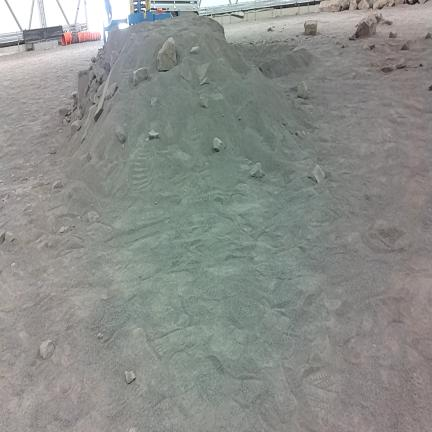Rock: (94, 73, 111, 121), (157, 38, 177, 72), (81, 105, 97, 142), (355, 14, 376, 38), (78, 70, 91, 108), (40, 339, 54, 360), (180, 58, 192, 81), (319, 0, 341, 12), (93, 83, 105, 104), (93, 63, 105, 83), (134, 68, 148, 85), (106, 83, 118, 100), (297, 81, 308, 99), (313, 165, 324, 183), (115, 125, 126, 143), (304, 20, 317, 35), (250, 163, 262, 178), (381, 59, 394, 72), (213, 138, 225, 152), (71, 120, 81, 136), (259, 61, 271, 74), (125, 371, 136, 384), (110, 51, 118, 68), (373, 0, 388, 9), (88, 211, 99, 222), (148, 130, 159, 140), (358, 0, 370, 9), (59, 107, 69, 117), (200, 96, 208, 108), (32, 181, 45, 188), (5, 232, 15, 241), (396, 59, 405, 69), (400, 41, 410, 50), (341, 0, 350, 10), (374, 12, 382, 23), (349, 0, 357, 10), (53, 181, 62, 189), (191, 46, 200, 54), (151, 97, 158, 107), (381, 19, 392, 25), (0, 231, 5, 244), (201, 78, 209, 86), (59, 226, 68, 233), (77, 110, 83, 119), (395, 0, 405, 5), (406, 0, 417, 4), (388, 0, 394, 6), (62, 119, 68, 125), (50, 148, 56, 154), (425, 33, 431, 39), (390, 32, 396, 38), (97, 333, 103, 339), (368, 44, 375, 49), (419, 0, 427, 4), (87, 154, 91, 162), (349, 35, 355, 40), (91, 57, 95, 63), (129, 428, 136, 431), (268, 27, 273, 31), (336, 41, 341, 45), (428, 86, 431, 91)
